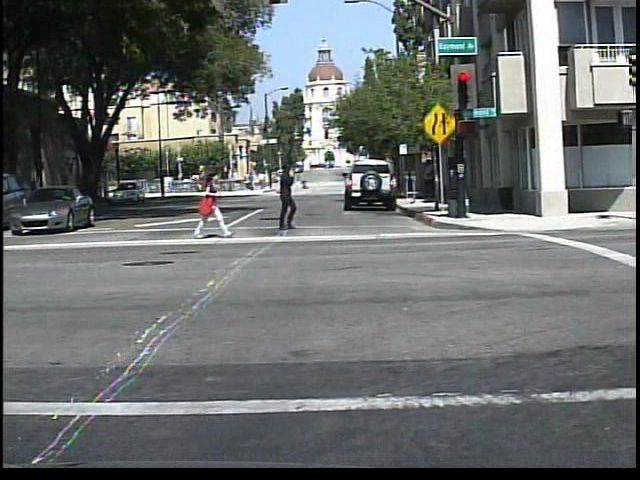person: (189, 166, 233, 241), (265, 161, 305, 234), (271, 172, 288, 193), (300, 176, 310, 193)
